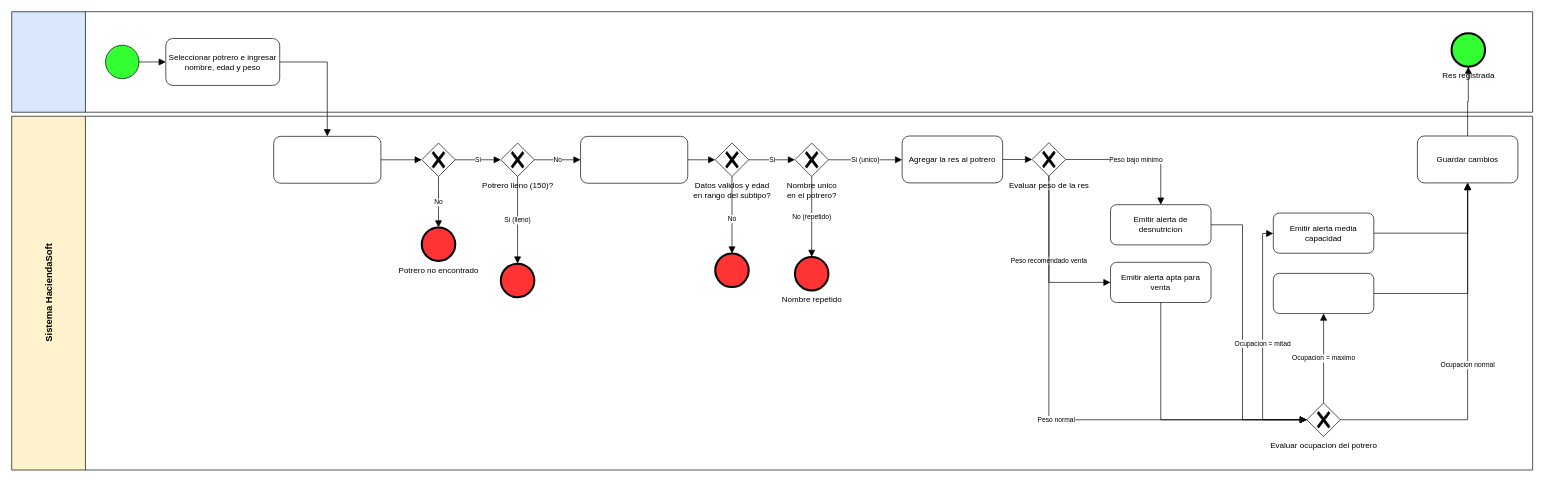
Some shapes in this 1544 by 482 pixel diagram are drawn without their labels. Here are the shapes that lost their labels. From the top down, the box of each, then its label:
(11, 11, 1533, 112): Usuario
(273, 136, 381, 183): Determinar tipo de la res segun el potrero
(421, 142, 455, 177): Potrero existe?
(580, 136, 688, 183): Validar nombre, peso y edad
(500, 263, 534, 297): Potrero lleno
(715, 253, 749, 287): Datos invalidos / edad fuera de rango
(1273, 273, 1374, 314): Emitir alerta potrero lleno
